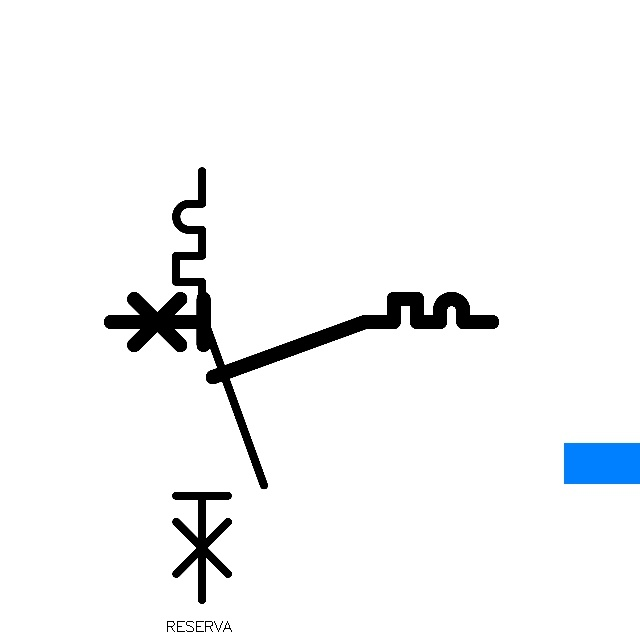interruptor_termomagnetico: (165, 160, 275, 611), (101, 289, 502, 387)
